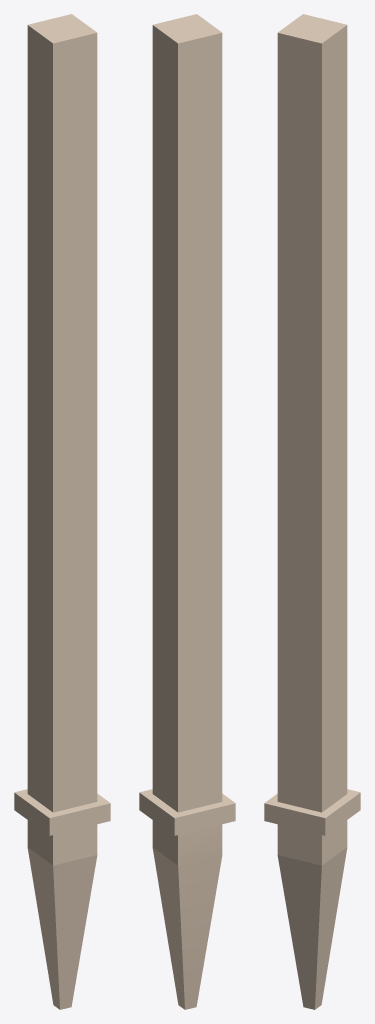
Rendered from arrow.fbx.
3 renders of one model, left to right at view 1: azimuth 30°, elevation 25°; view 2: azimuth 210°, elevation 25°; view 3: azimuth 330°, elevation 25°, orthographic.
Visible parts, largest first — view 1: arrow; view 2: arrow; view 3: arrow.
Boxes of the visible parts, x1,y1,x2,y2 form: arrow: (14, 14, 110, 1009); arrow: (139, 14, 235, 1009); arrow: (264, 14, 360, 1009).
Bounding box in the file's own units: 808 × 12311 × 808.
